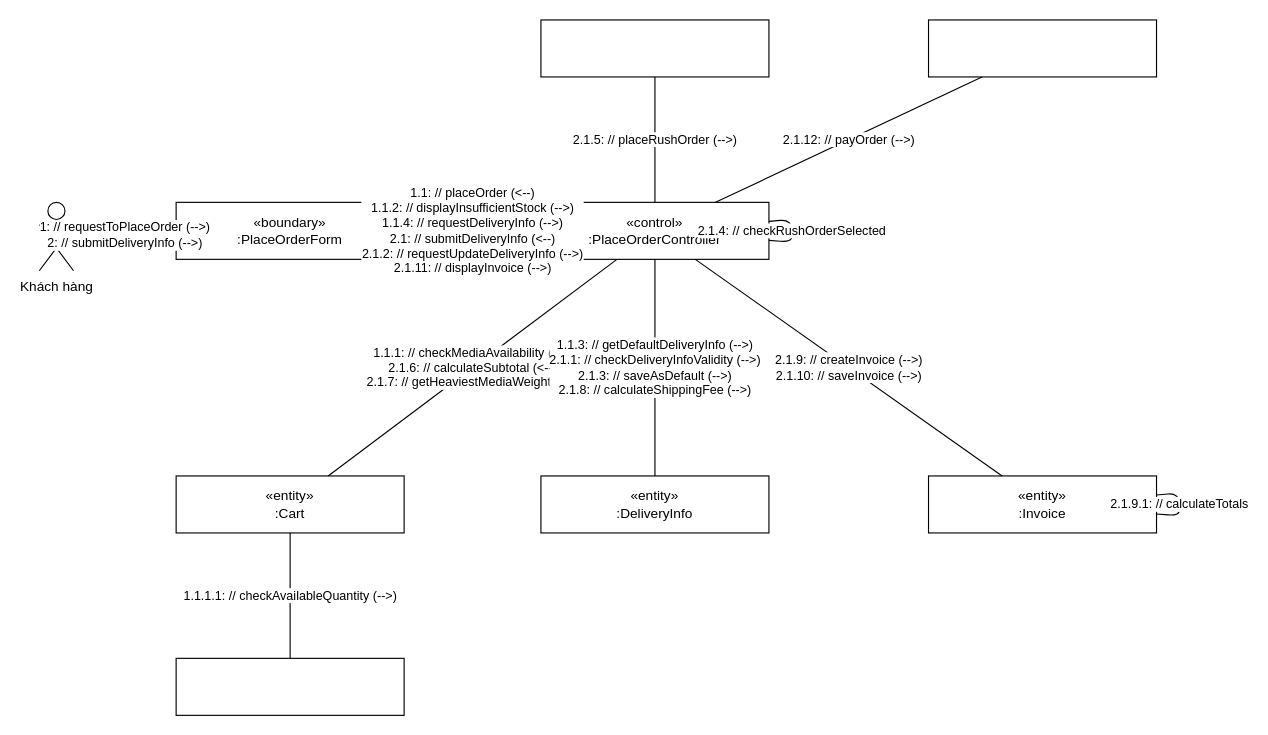
Some shapes in this 1268 by 735 pixel diagram are drawn without their labels. Here are the shapes that lost their labels. From the top down, the centre of each, then its label:
the point at 654,48: «control» :PlaceRushOrderController
the point at 1042,48: «control» :PayOrderController
the point at 289,686: «entity» :Media
